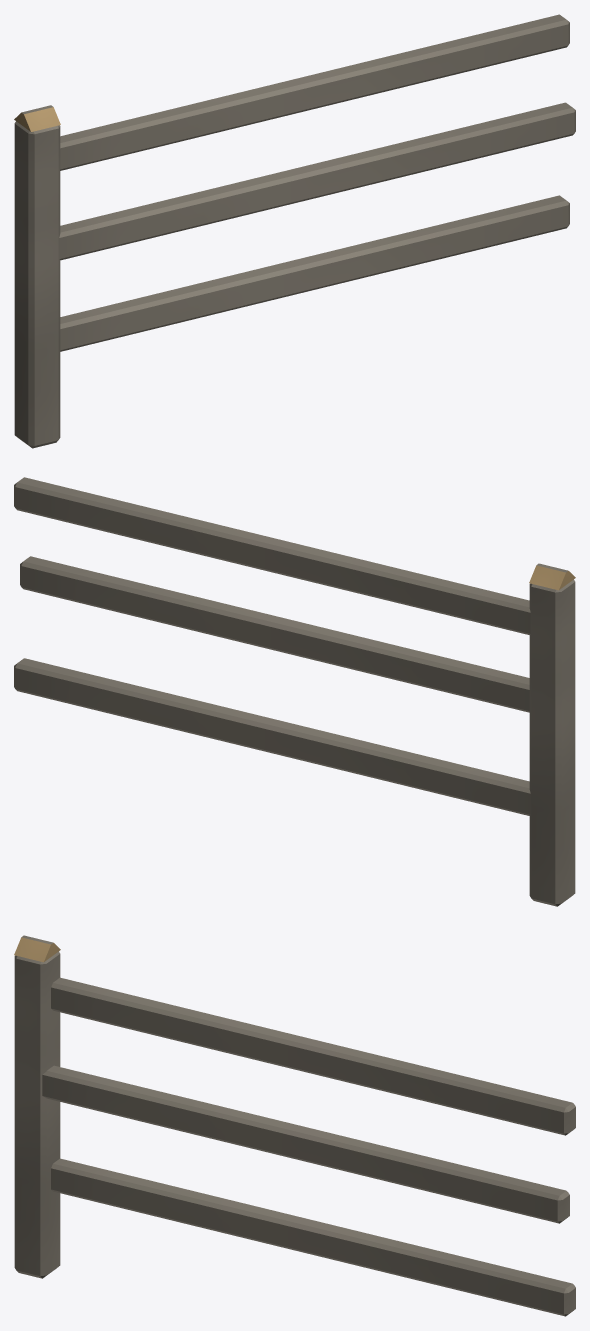
File: fence_rail.obj
3 views of the same model, one above another, from view 1: azimuth 30°, elevation 25°; view 2: azimuth 150°, elevation 25°; view 3: azimuth 330°, elevation 25° (orthographic).
Parts seen in each view (by area): view 1: fence_rail; view 2: fence_rail; view 3: fence_rail.
Boxes of the visible parts, x1,y1,x2,y2 form: fence_rail: (14,14,575,448); fence_rail: (14,477,575,906); fence_rail: (14,935,575,1316).
Size of the model in its own units: 2.06 by 1.19 by 0.12.
Materials: 1 (1 with a texture image).
